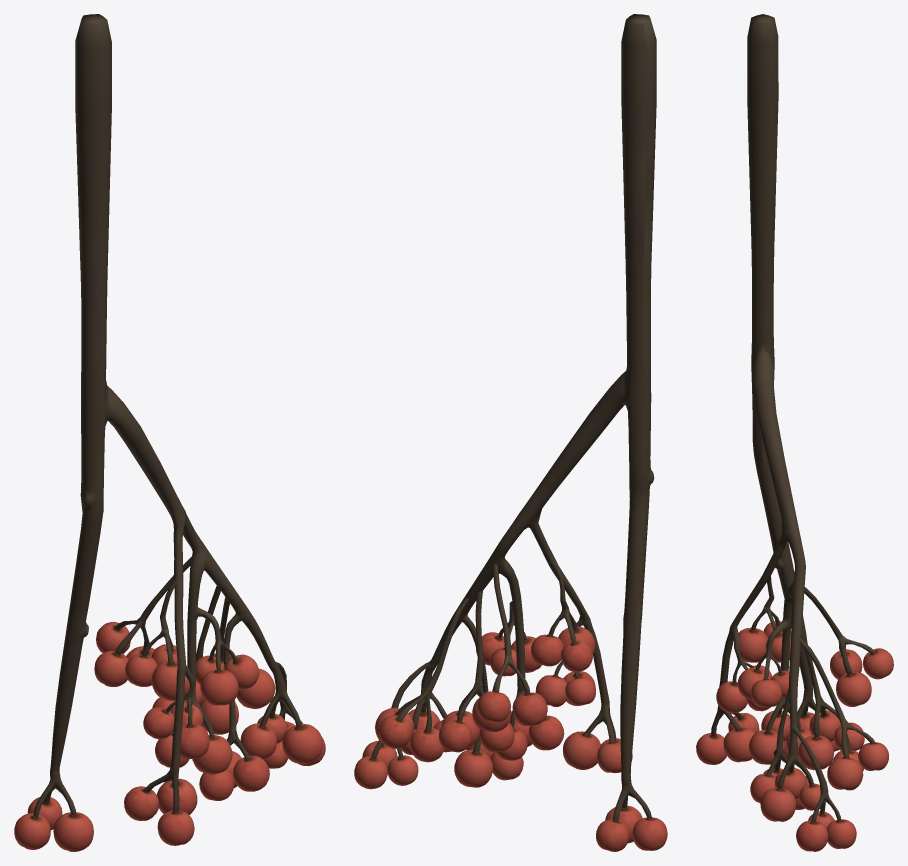
3 views of the same model, side by side, from view 1: azimuth 30°, elevation 25°; view 2: azimuth 150°, elevation 25°; view 3: azimuth 270°, elevation 25° (orthographic). The views are drawn at different scales.
Parts seen in each view (by area): view 1: polySurface74, polySurface112; view 2: polySurface74, polySurface112; view 3: polySurface74, polySurface112.
Boxes of the visible parts, x1,y1,x2,y2 form: polySurface74: (33,14,302,817); polySurface112: (14,622,325,851); polySurface74: (371,14,656,820); polySurface112: (354,626,667,851); polySurface74: (711,14,874,821); polySurface112: (696,621,893,851).
Size of the model in its own units: 0.0235 by 0.061 by 0.0147.
2 materials, 2 textured.
